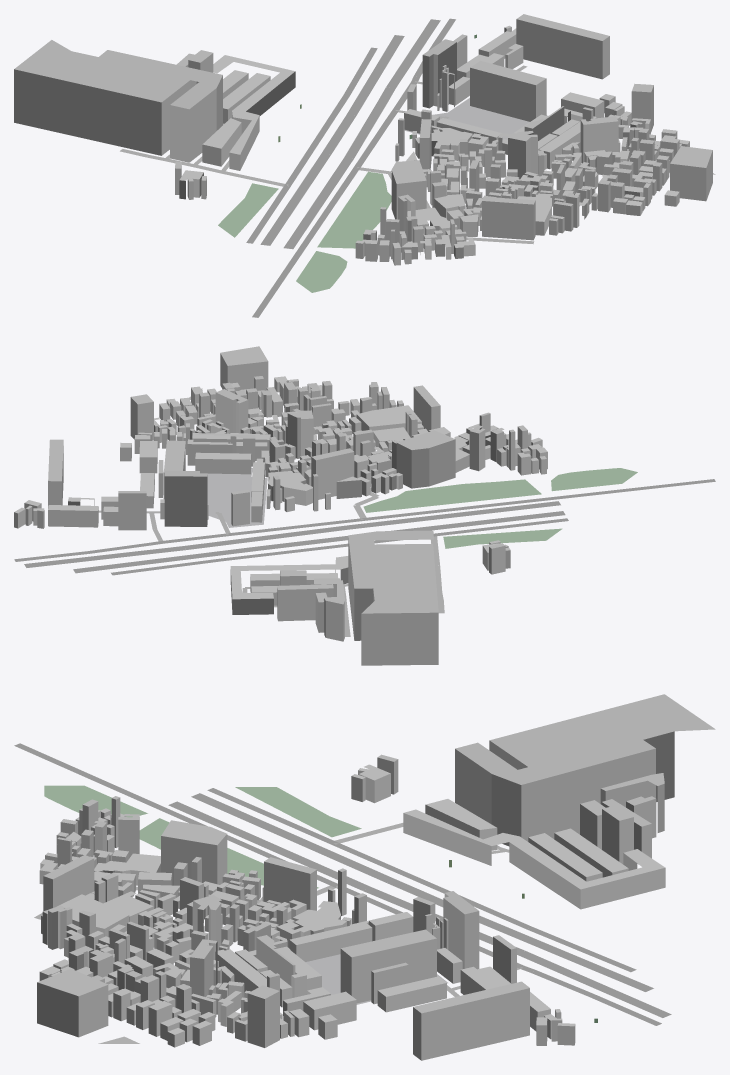
3 renders of one model, top to bottom at view 1: azimuth 30°, elevation 25°; view 2: azimuth 150°, elevation 25°; view 3: azimuth 270°, elevation 25°, orthographic. The views are drawn at different scales.
Bounding box in the file's own units: 612 × 61.48 × 579.
